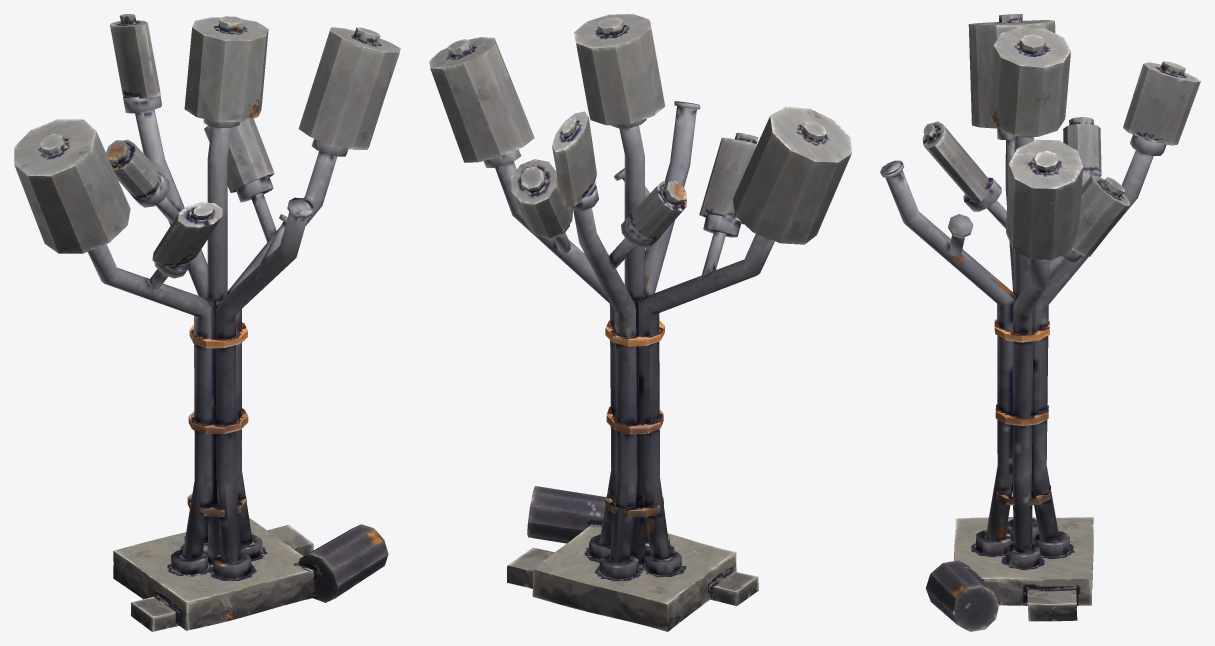
File: ScrapTreeExhaust.glb
The picture shows the model from 3 angles, left to right: view 1: azimuth 30°, elevation 25°; view 2: azimuth 150°, elevation 25°; view 3: azimuth 270°, elevation 25°; orthographic projection. The views are drawn at different scales.
Visible parts, largest first — view 1: Mufflers, Pipes, Footing, Lashing; view 2: Mufflers, Pipes, Footing, Lashing; view 3: Mufflers, Pipes, Footing, Lashing.
Boxes of the visible parts, <box> form: Mufflers: <box>14,14,400,602</box>; Pipes: <box>88,95,348,578</box>; Footing: <box>113,518,315,631</box>; Lashing: <box>187,322,248,516</box>; Mufflers: <box>429,14,851,543</box>; Pipes: <box>483,101,774,578</box>; Footing: <box>507,525,758,631</box>; Lashing: <box>605,320,664,517</box>; Mufflers: <box>922,14,1200,631</box>; Pipes: <box>880,128,1166,568</box>; Footing: <box>954,517,1093,621</box>; Lashing: <box>994,319,1050,505</box>.
Size of the model in its own units: 7.24 by 9.96 by 5.3.
4 materials, 4 textured.
